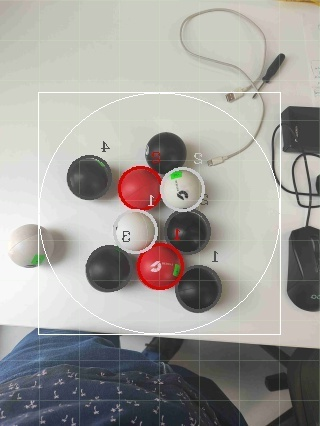Pelota blanca: (178, 7, 278, 97), (181, 92, 265, 168), (85, 244, 132, 294), (7, 222, 55, 270), (159, 166, 209, 211), (111, 209, 159, 254)
Pelota negra: (175, 265, 222, 315), (85, 244, 132, 294), (66, 153, 113, 200), (165, 209, 212, 254), (143, 129, 188, 174)
Pelota roja: (135, 241, 185, 291), (117, 164, 164, 211)
